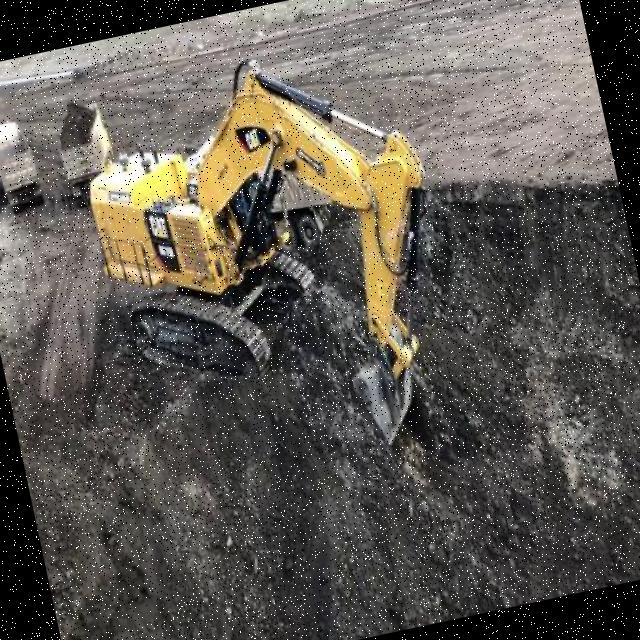Dump Truck: (178, 111, 340, 270), (50, 99, 124, 210), (0, 111, 47, 217)
Excavator: (62, 25, 481, 500)
